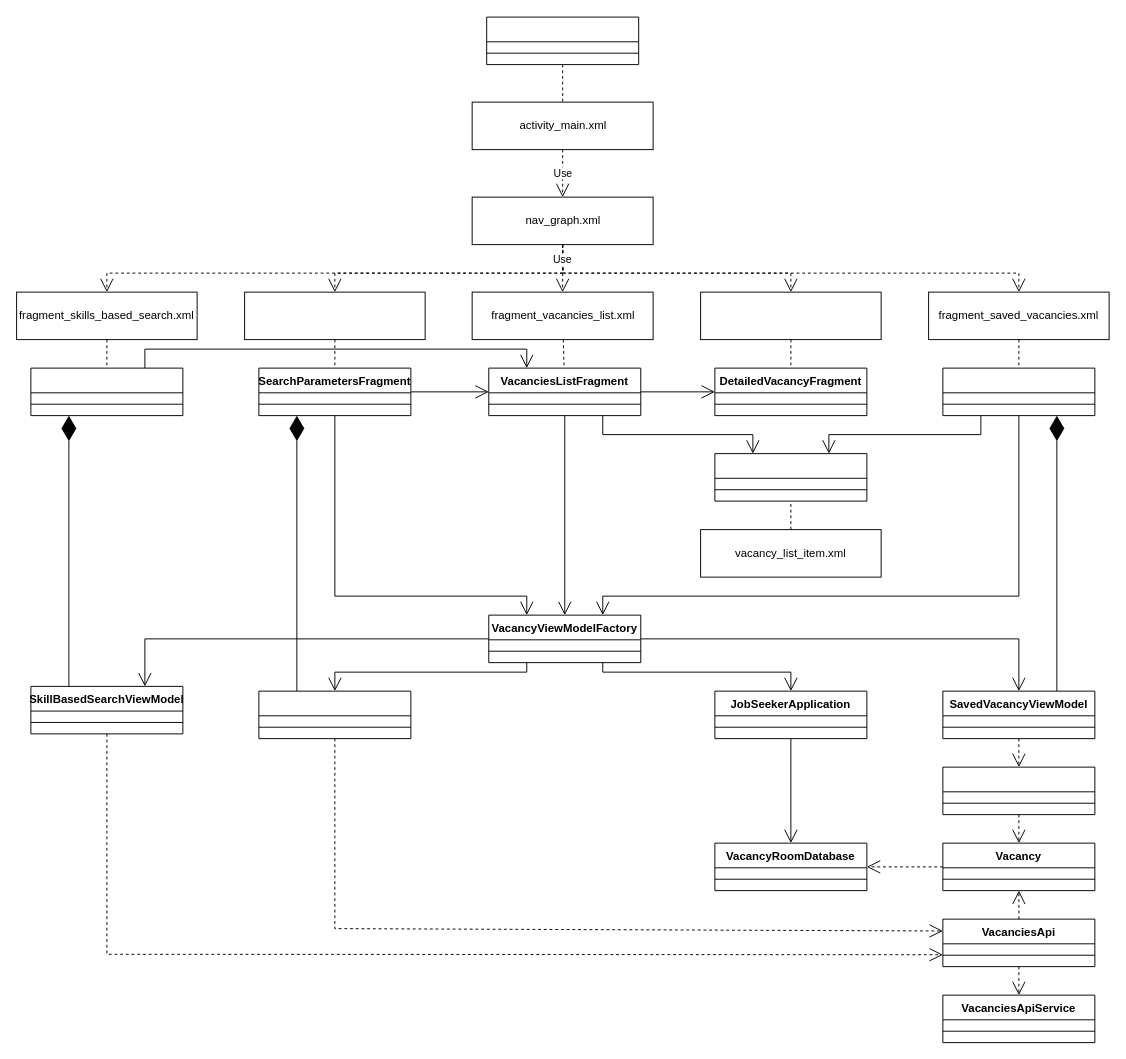
Some shapes in this 1126 by 1059 pixel diagram are drawn without their labels. The shapes that lost their labels are listed below. From the top down, each one's box as (x1, y1, x2, y2) in pixels, then its label:
(486, 16, 639, 65): MainActivity
(244, 291, 425, 340): fragment_search_parameters.xml
(700, 291, 881, 340): fragment_detailed_vacancy.xml
(30, 367, 183, 416): SkillsBasedSearchFragment
(942, 367, 1095, 416): SavedVacanciesFragment
(714, 453, 867, 501): VacancyListAdapter
(258, 690, 411, 739): VacancyViewModel
(942, 766, 1095, 815): VacancyDao
